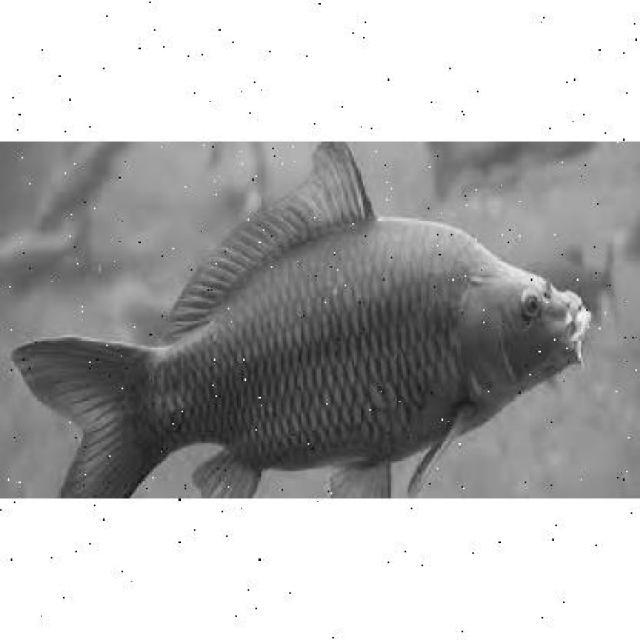ikan-mas: (13, 140, 593, 497)
